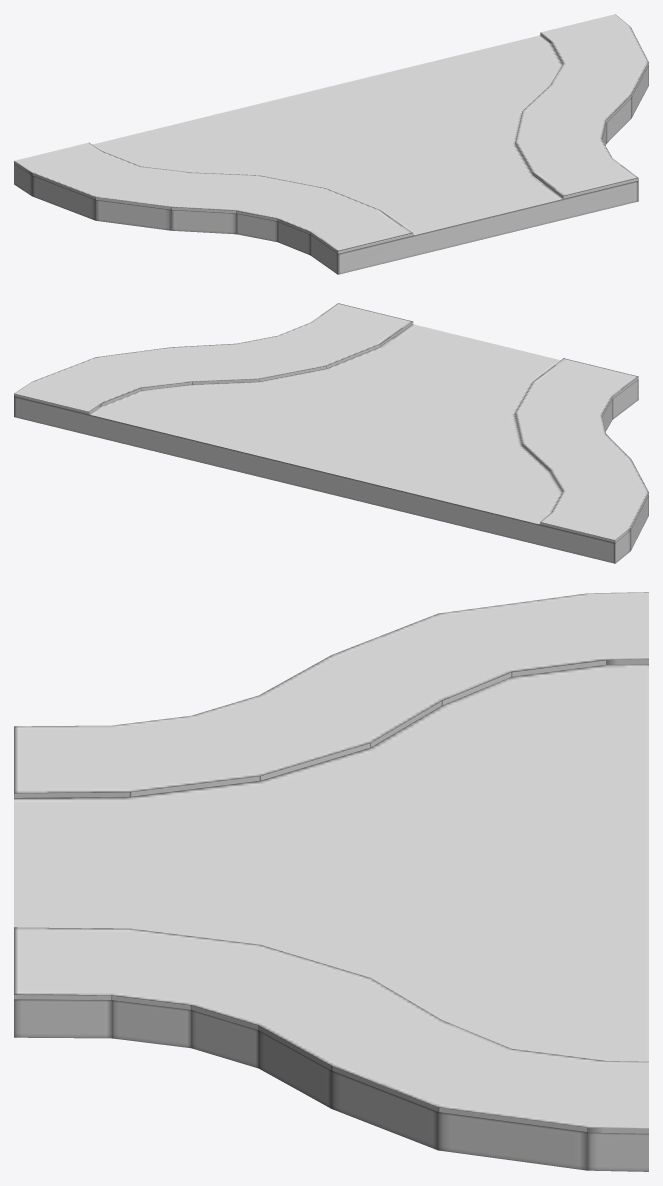
The model's file is Road-14.fbx.
3 renders of one model, top to bottom at view 1: azimuth 30°, elevation 25°; view 2: azimuth 150°, elevation 25°; view 3: azimuth 270°, elevation 25°, orthographic. The views are drawn at different scales.
Visible parts, largest first — view 1: Road_14; view 2: Road_14; view 3: Road_14.
Boxes of the visible parts, x1,y1,x2,y2 form: Road_14: [14, 14, 648, 274]; Road_14: [14, 303, 648, 563]; Road_14: [14, 592, 648, 1171].
Size of the model in its own units: 8 by 0.3 by 4.
